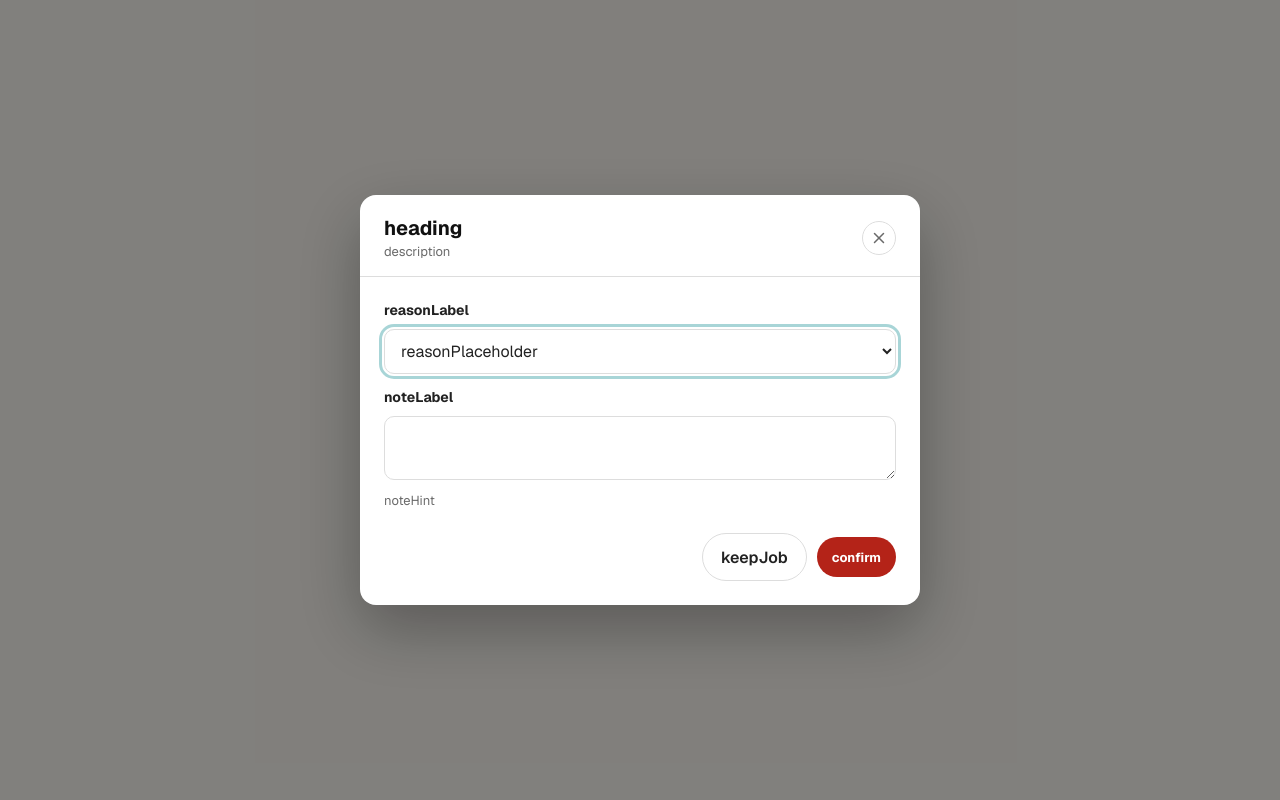
CancelJobDialog › focuses the reason field and requires an explicit reason
Click the button "confirm" at (856,557), box 817,537 -> 896,577
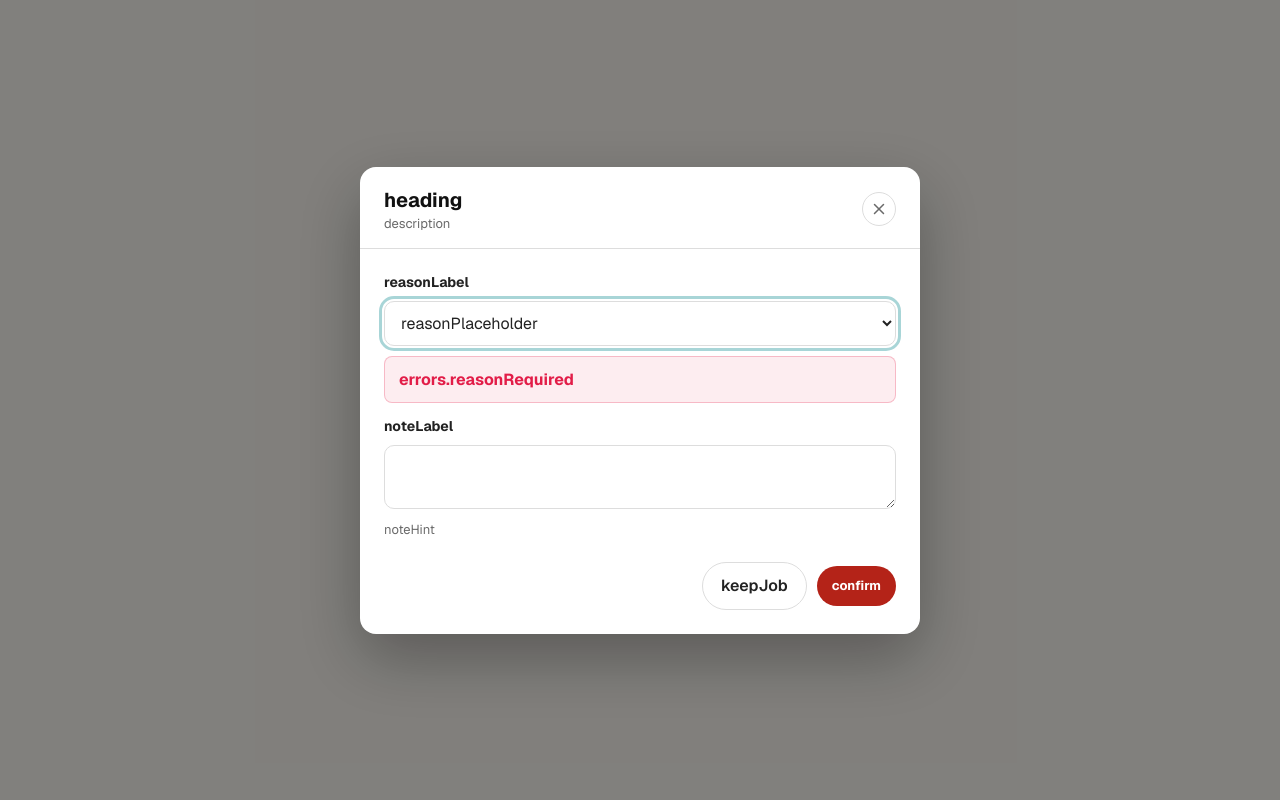
Check: the text "errors.reasonRequired" is shown, box 384,356 -> 896,402
